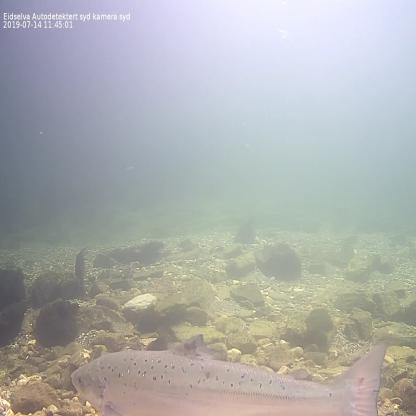salmon: (69, 330, 396, 416)
